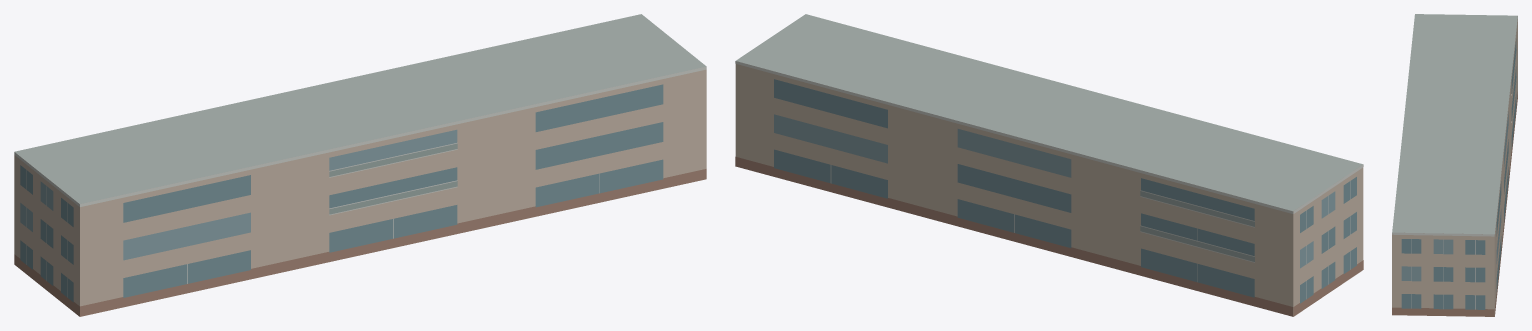
File: survey-upis-32576303.glb
3 renders of one model, left to right at view 1: azimuth 30°, elevation 25°; view 2: azimuth 150°, elevation 25°; view 3: azimuth 270°, elevation 25°, orthographic. The views are drawn at different scales.
Visible parts, largest first — view 1: survey-upis-32576303.tmp; view 2: survey-upis-32576303.tmp; view 3: survey-upis-32576303.tmp.
Part boxes in pixels (x1=…): survey-upis-32576303.tmp: x1=14, y1=14, x2=706, y2=316; survey-upis-32576303.tmp: x1=735, y1=14, x2=1363, y2=316; survey-upis-32576303.tmp: x1=1392, y1=14, x2=1517, y2=316.
Size of the model in its own units: 52.35 by 9.15 by 12.64.
